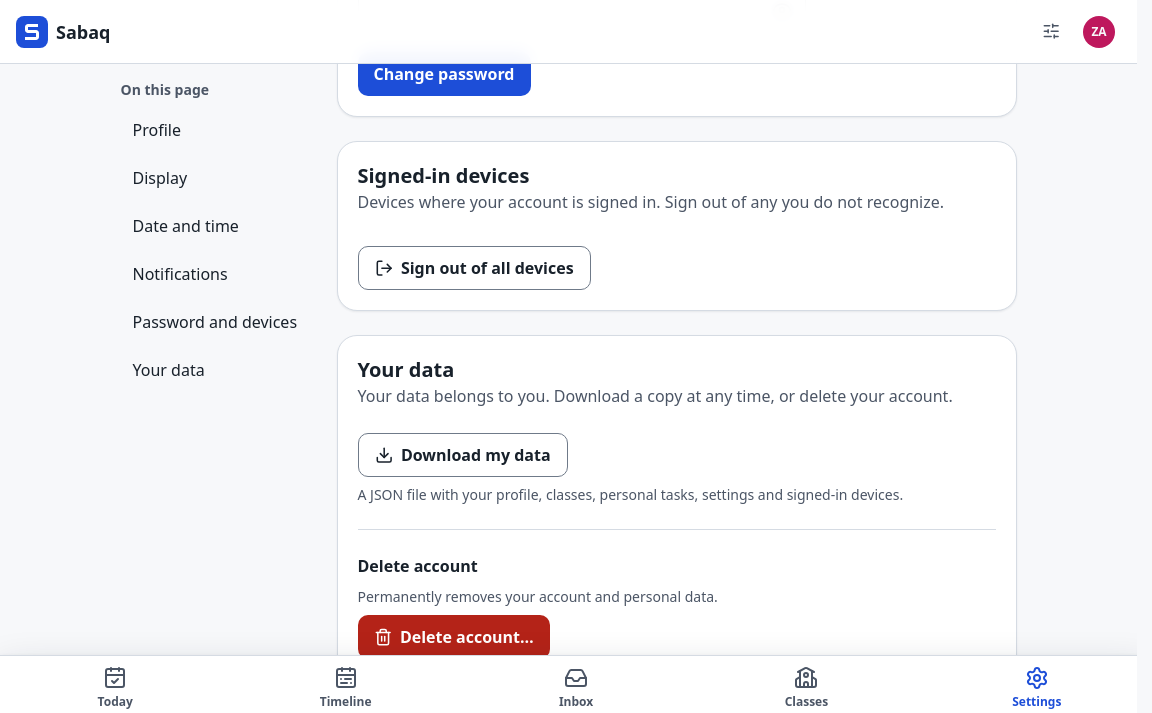
Test: deleting the account › signs out once the account is deleted
The width and height of the screenshot is (1152, 713).
(page scrolled)
Click the button "Delete account…" at {"x": 454, "y": 637}, box x1=358 y1=615 x2=550 y2=659
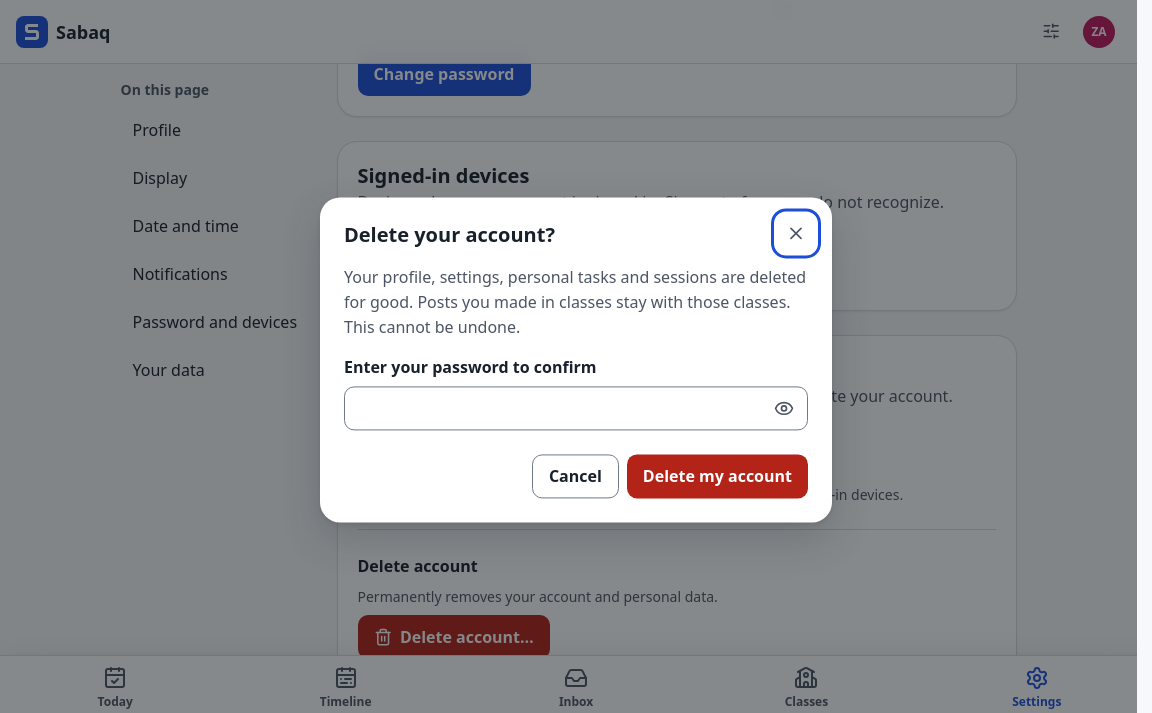
Type "sabaq-demo" into the password field labelled "Enter your password to confirm" at {"x": 576, "y": 409}, box x1=344 y1=387 x2=808 y2=431
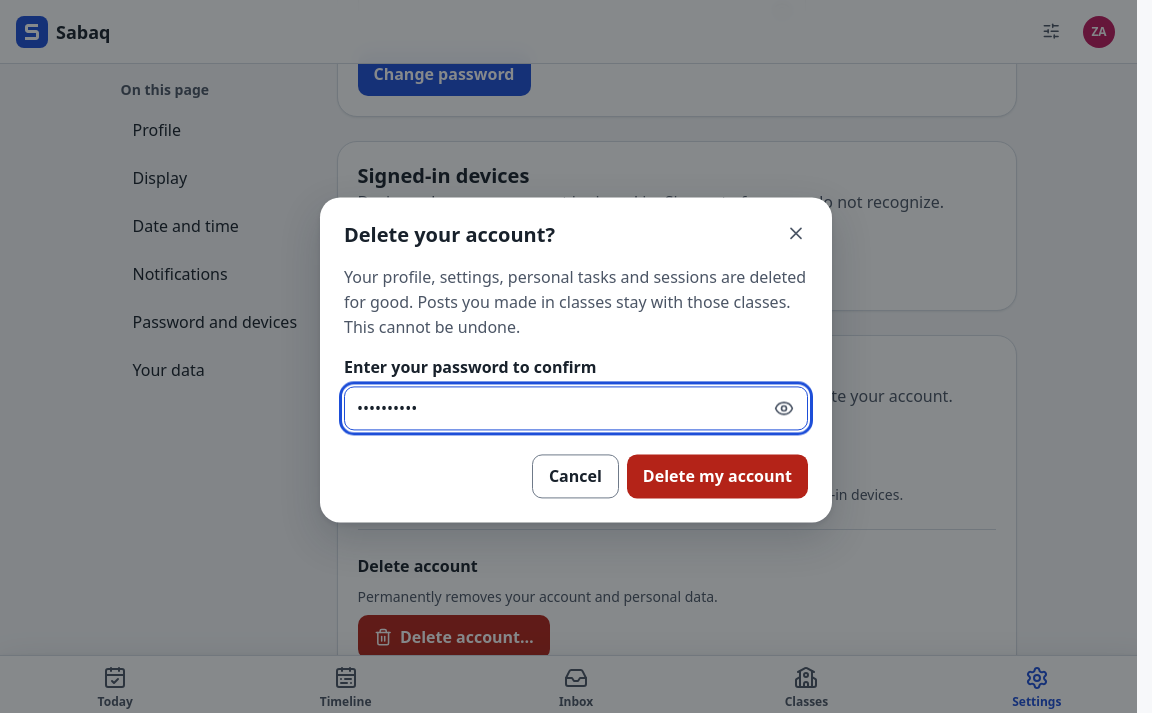
Click the button "Delete my account" at {"x": 717, "y": 477}, box x1=627 y1=455 x2=808 y2=499
(page scrolled)
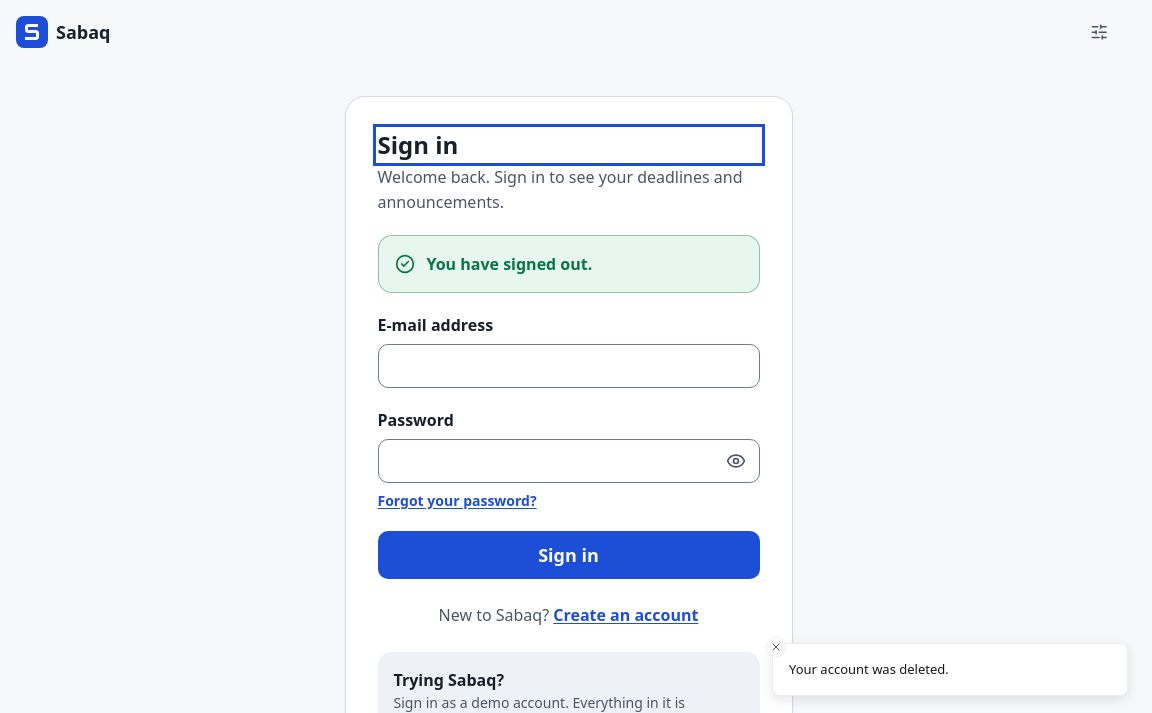
Expected: the text "Your account was deleted." is shown, x1=789 y1=660 x2=949 y2=679
